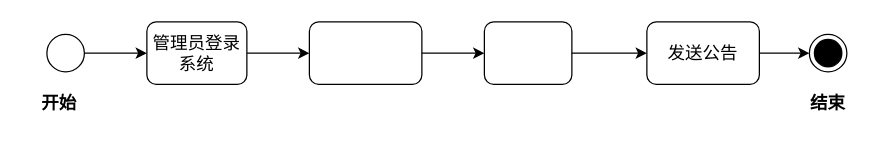
Some shapes in this 886 by 144 pixel diagram are drawn without their labels. The centre of each missing label's shape, as x and y in pixels:
填写公告信息: (365,52)
选择推送对象: (527,52)
